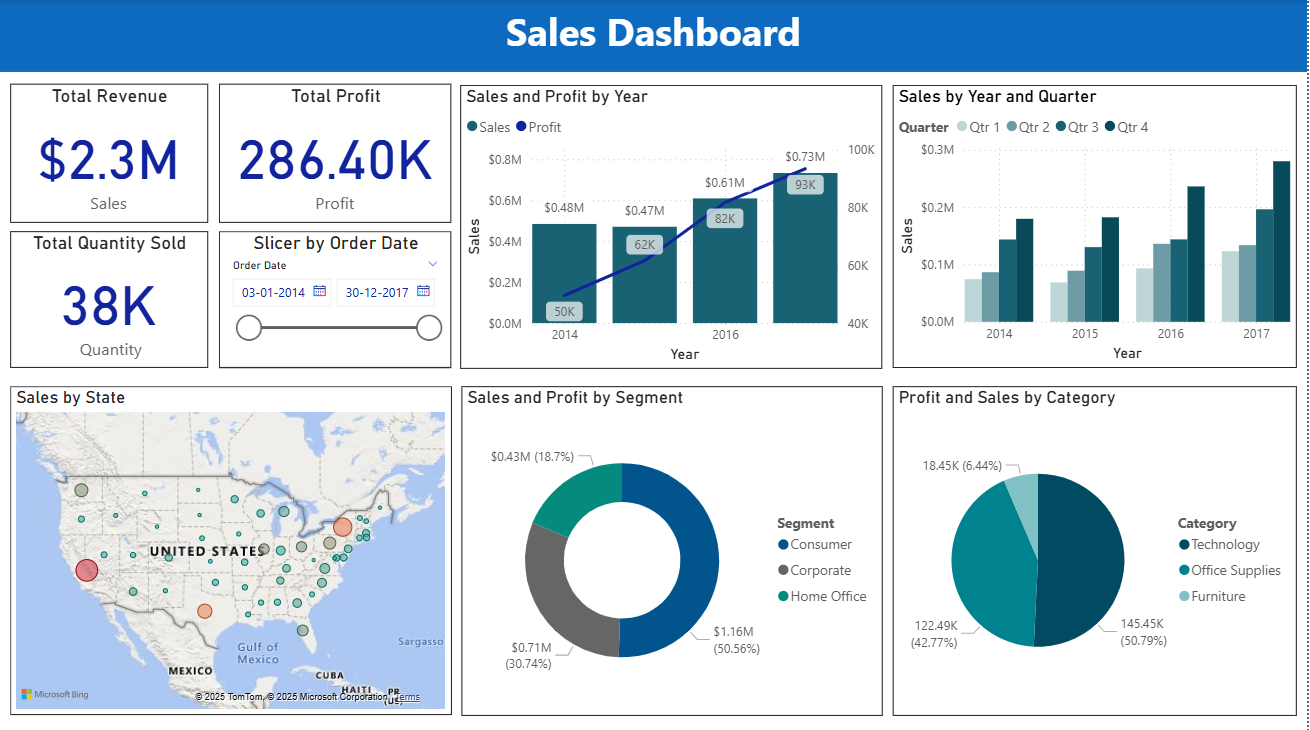

The page's visual inventory and layout, read from the dashboard file:
{"tool":"powerbi","page":{"name":"Overall Sales","canvas":[1280,720],"ordinal":0},"visuals":[{"type":"textbox","box":[0,0,1280.3,70],"z":0},{"type":"card","title":"Total Revenue","fields":{"Values":["Sum(Orders.Sales)"]},"box":[11,81.9,193.2,135.7],"z":1000},{"type":"card","title":"Total Quantity Sold","fields":{"Values":["Sum(Orders.Quantity)"]},"box":[11,226.2,193.2,133.3],"z":2000},{"type":"card","title":"Total Profit","fields":{"Values":["Sum(Orders.Profit)"]},"box":[215.2,81.9,227.4,135.7],"z":3000},{"type":"slicer","title":"Slicer by Order Date","fields":{"Values":["Orders.Order Date"]},"box":[215.2,226.2,227.4,133.3],"z":4000},{"type":"lineStackedColumnComboChart","fields":{"Category":["Orders.Order Date.Variation.Date Hierarchy.Year","Orders.Order Date.Variation.Date Hierarchy.Quarter","Orders.Order Date.Variation.Date Hierarchy.Month","Orders.Order Date.Variation.Date Hierarchy.Day"],"Y":["Sum(Orders.Sales)"],"Y2":["Sum(Orders.Profit)"]},"box":[451.6,83.2,412.5,277.8],"z":5000},{"type":"clusteredColumnChart","fields":{"Category":["Orders.Year"],"Series":["Orders.Quarter"],"Y":["Sum(Orders.Sales)"]},"box":[873.9,83.2,395.3,276.6],"z":6000},{"type":"map","fields":{"Category":["Orders.State"],"Size":["Sum(Orders.Sales)"]},"box":[11,378.2,432.1,321.9],"z":7000},{"type":"donutChart","fields":{"Category":["Orders.Segment"],"Y":["Sum(Orders.Sales)"]},"box":[452,378,412,322],"z":8000},{"type":"pieChart","fields":{"Category":["Orders.Category"],"Y":["Sum(Orders.Profit)"]},"box":[874,378,395,322],"z":9000}]}

Visuals, with their boxes in screenshot pixels (x1, y1, x2, y2), scaled from the page's 1280x720 canvas onto the 1310x730 screenshot:
textbox: box=[0, 0, 1309, 71]
"Total Revenue" card: box=[11, 83, 209, 221]
"Total Quantity Sold" card: box=[11, 229, 209, 364]
"Total Profit" card: box=[220, 83, 453, 221]
"Slicer by Order Date" slicer: box=[220, 229, 453, 364]
lineStackedColumnComboChart - Orders.Order Date.Variation.Date Hierarchy.Year x Orders.Order Date.Variation.Date Hierarchy.Quarter: box=[462, 84, 884, 366]
clusteredColumnChart - Orders.Year x Orders.Quarter: box=[894, 84, 1299, 365]
map - Orders.State x Sum(Orders.Sales): box=[11, 383, 453, 710]
donutChart - Orders.Segment x Sum(Orders.Sales): box=[463, 383, 884, 710]
pieChart - Orders.Category x Sum(Orders.Profit): box=[894, 383, 1299, 710]
